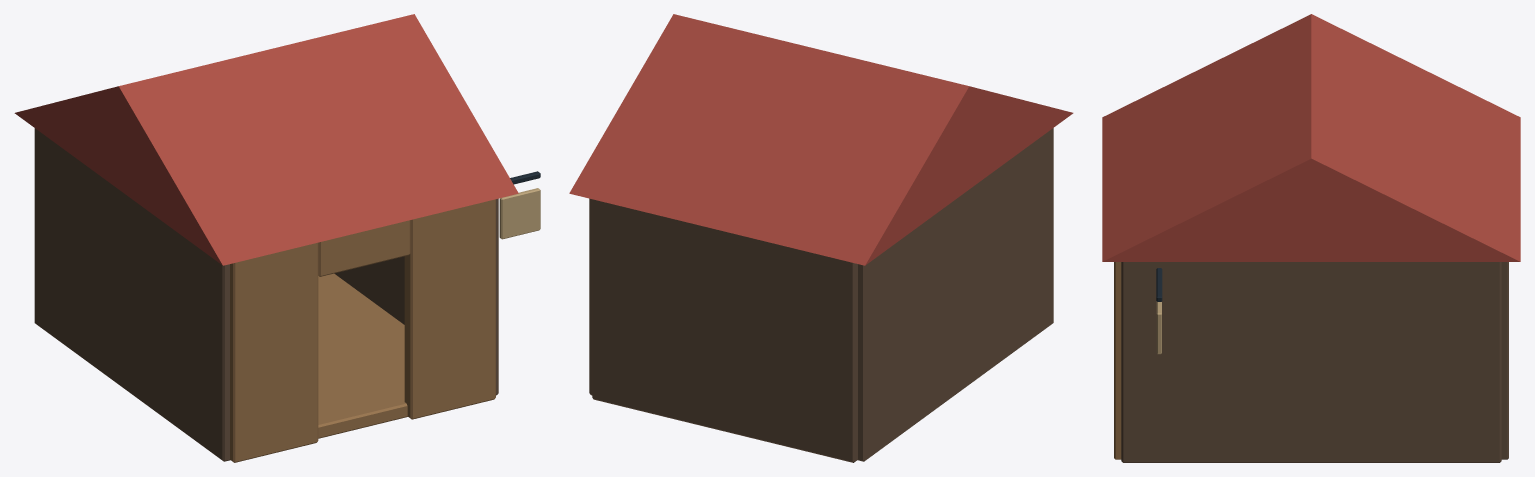
Rendered from harbor-tavern.lod0.glb.
3 views of the same model, side by side, from view 1: azimuth 30°, elevation 25°; view 2: azimuth 150°, elevation 25°; view 3: azimuth 270°, elevation 25° (orthographic).
Parts seen in each view (by area): view 1: harbor-tavern__roof, harbor-tavern__body, harbor-tavern__front-wall; view 2: harbor-tavern__body, harbor-tavern__roof; view 3: harbor-tavern__roof, harbor-tavern__body, harbor-tavern__front-wall.
Part boxes in pixels (x1=…): harbor-tavern__roof: x1=14, y1=14, x2=518, y2=265; harbor-tavern__body: x1=34, y1=128, x2=540, y2=461; harbor-tavern__front-wall: x1=230, y1=199, x2=495, y2=462; harbor-tavern__body: x1=589, y1=128, x2=1053, y2=462; harbor-tavern__roof: x1=569, y1=14, x2=1073, y2=265; harbor-tavern__roof: x1=1102, y1=14, x2=1520, y2=261; harbor-tavern__body: x1=1121, y1=262, x2=1508, y2=462; harbor-tavern__front-wall: x1=1114, y1=262, x2=1121, y2=459.
Bounding box in the file's own units: 5.25 × 4.5 × 5.5.
